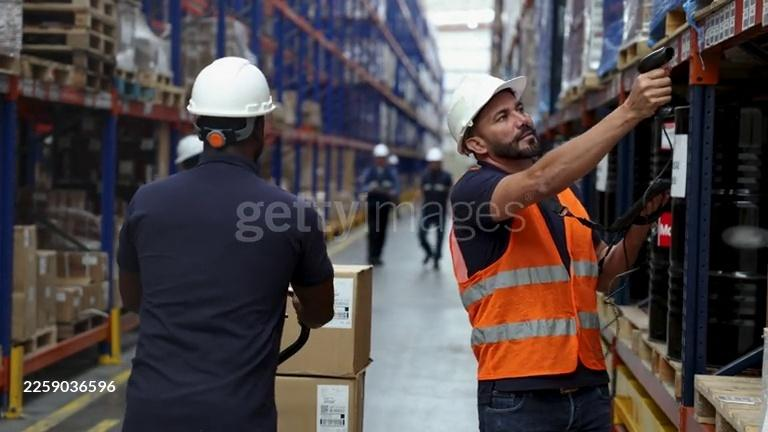helmet: (442, 74, 527, 157), (186, 56, 276, 118)
person: (441, 69, 674, 432), (116, 57, 336, 427), (354, 145, 400, 267), (420, 147, 455, 267), (176, 136, 204, 171)
